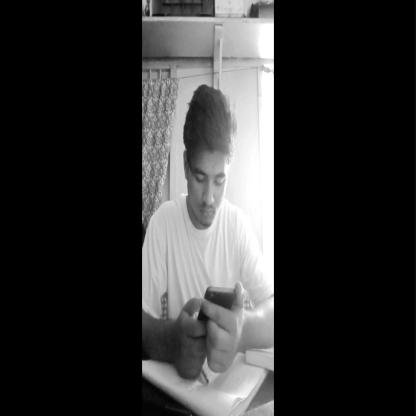Normal: (184, 86, 236, 235)
